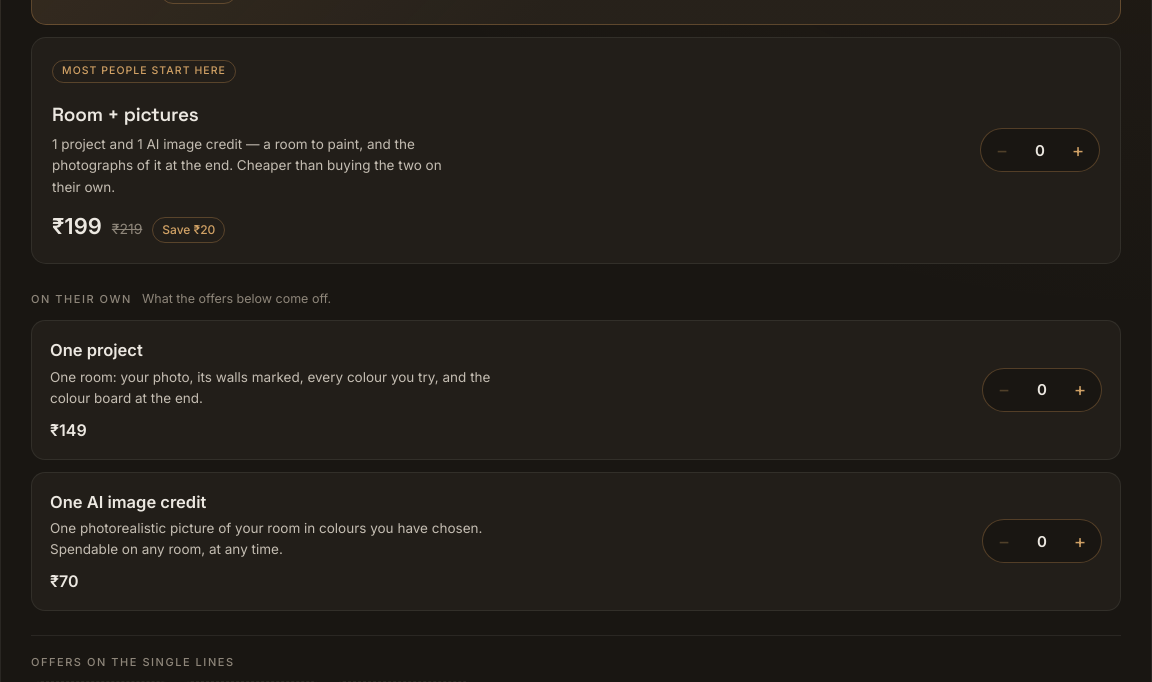
Test: CreditsCart › prices the basket from the server's own rates as quantities change
(page scrolled)
Expected: the text "One project" is shown, [50,340,143,360]
Click the button named "One more One project".
click(1080, 390)  # box [1059,369,1101,411]
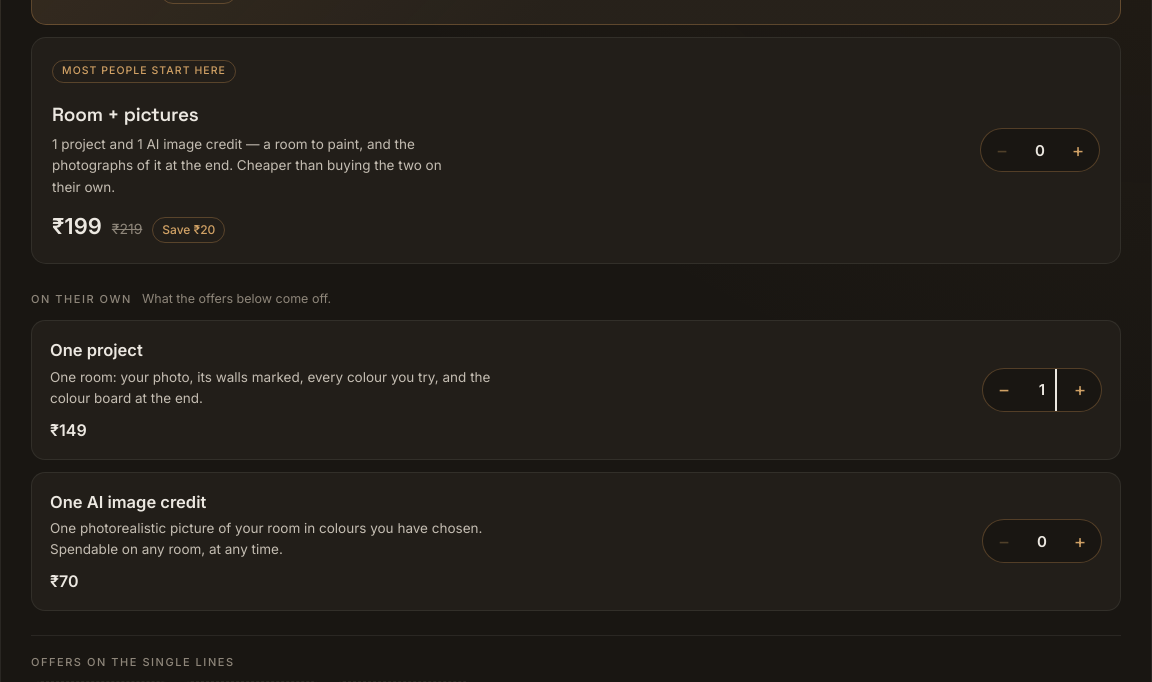
Click the button named "One more One AI image credit".
click(1080, 541)  # box [1059,520,1101,562]
(page scrolled)
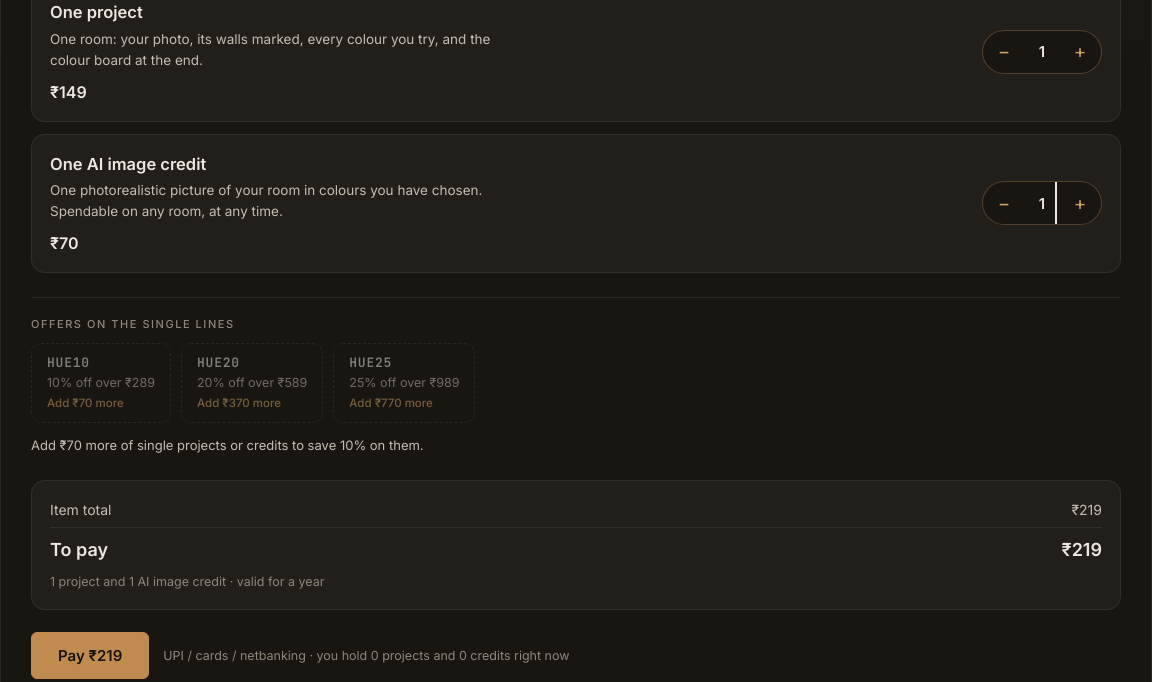
Expected: the button "Pay ₹219" is shown, [31,632,149,679]
